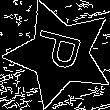P_E: (30, 30, 90, 78)
